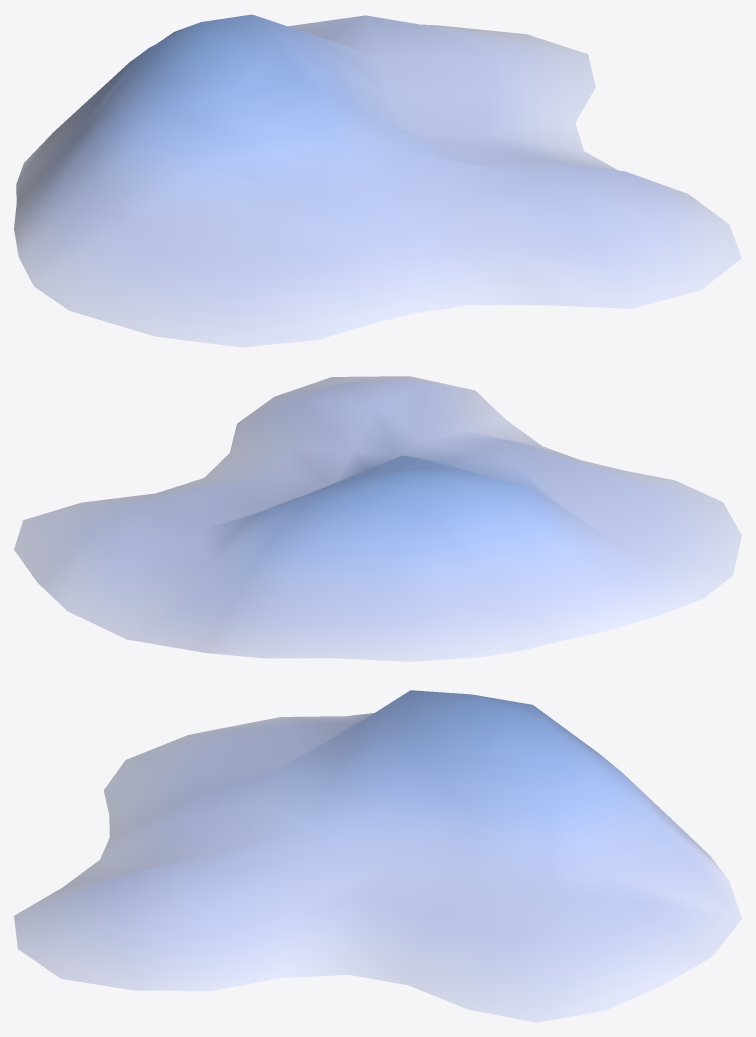
The model's file is snowpile03.fbx.
3 views of the same model, one above another, from view 1: azimuth 30°, elevation 25°; view 2: azimuth 150°, elevation 25°; view 3: azimuth 270°, elevation 25° (orthographic). The views are drawn at different scales.
Visible parts, largest first — view 1: snowpile03; view 2: snowpile03; view 3: snowpile03.
Boxes of the visible parts, <box> form: snowpile03: <box>14,14,741,347</box>; snowpile03: <box>14,376,741,661</box>; snowpile03: <box>14,690,741,1022</box>.
Bounding box in the file's own units: 1.18 × 0.2254 × 1.18.
